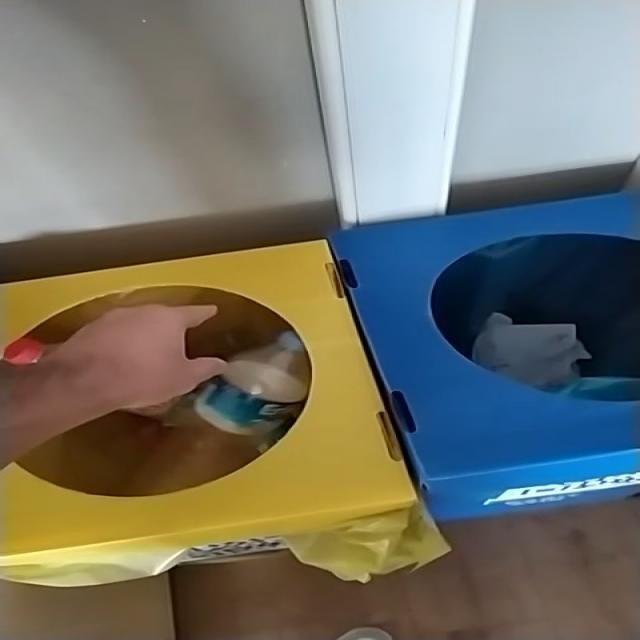plastic: (123, 330, 311, 489)
